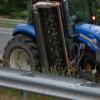Tractor: (6, 5, 100, 83)
